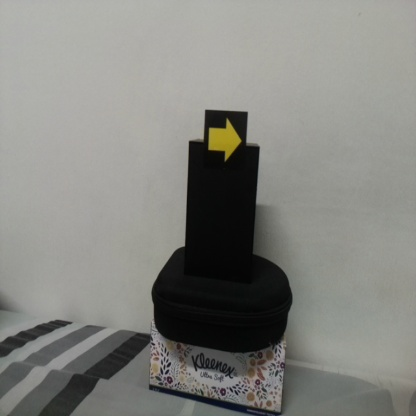id_3: (205, 110, 246, 171)
